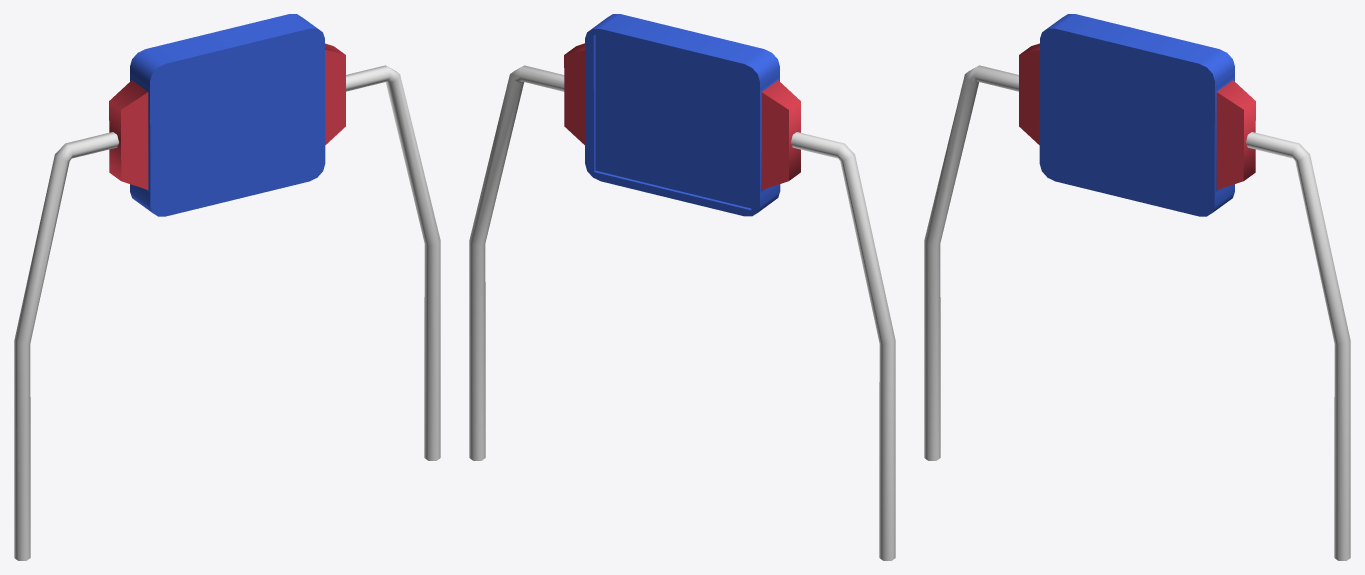
File: Display.fbx
3 views of the same model, side by side, from view 1: azimuth 30°, elevation 25°; view 2: azimuth 150°, elevation 25°; view 3: azimuth 330°, elevation 25° (orthographic).
Parts seen in each view (by area): view 1: Display; view 2: Display; view 3: Display.
Boxes of the visible parts, <box> form: Display: <box>14,14,440,560</box>; Display: <box>469,14,895,560</box>; Display: <box>924,14,1350,560</box>.
Size of the model in its own units: 848 by 899 by 70.95.
